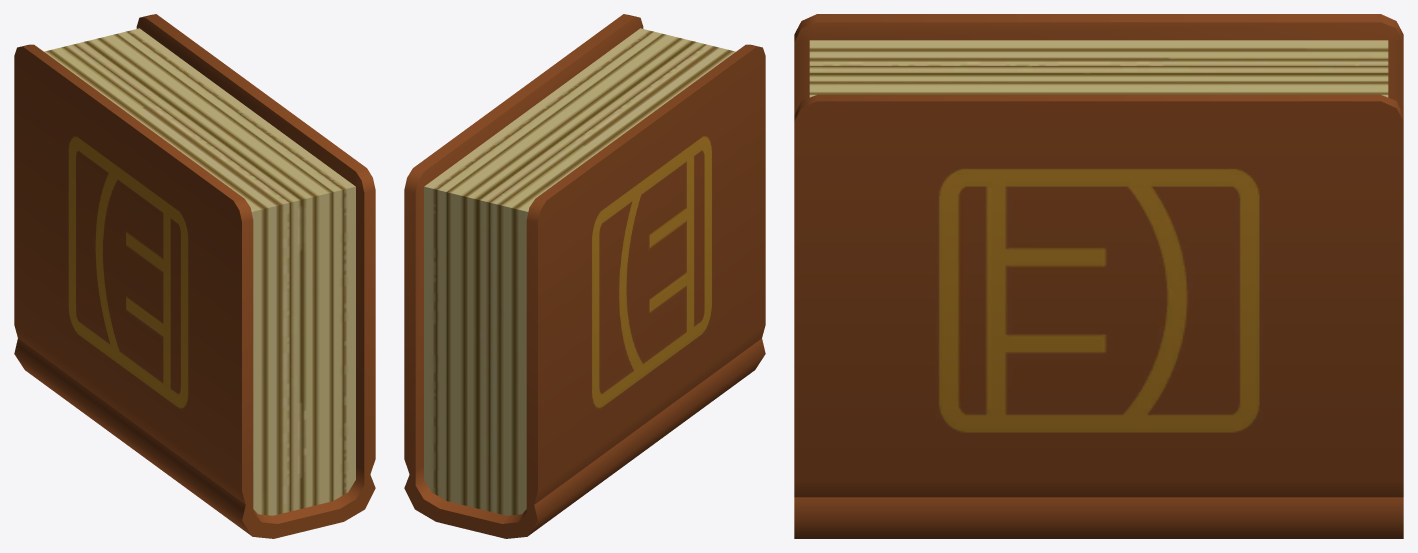
File: book red.glb
The picture shows the model from 3 angles, left to right: view 1: azimuth 30°, elevation 25°; view 2: azimuth 150°, elevation 25°; view 3: azimuth 270°, elevation 25°; orthographic projection. The views are drawn at different scales.
Visible parts, largest first — view 1: Book_LOD0; view 2: Book_LOD0; view 3: Book_LOD0.
Part boxes in pixels (<box>): Book_LOD0: <box>14,14,375,538</box>; Book_LOD0: <box>404,14,765,538</box>; Book_LOD0: <box>794,14,1403,538</box>.
Bounding box in the file's own units: 0.1223 × 0.2972 × 0.3614.
1 material, 1 textured.
